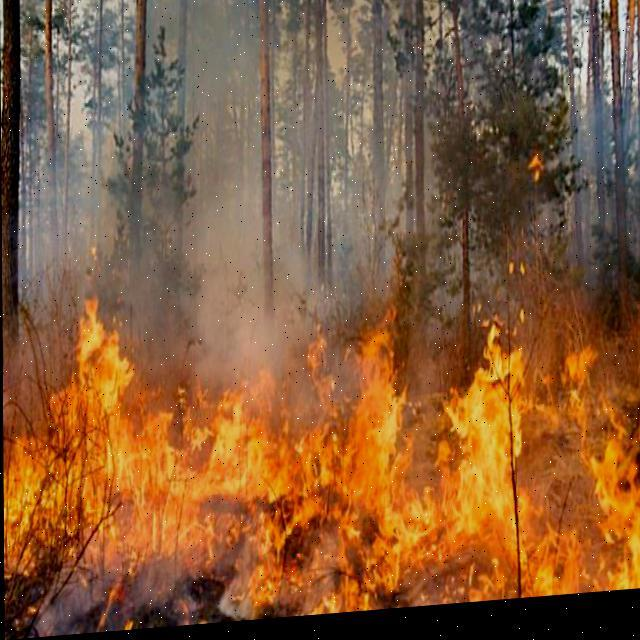Fire: (3, 266, 639, 639)
